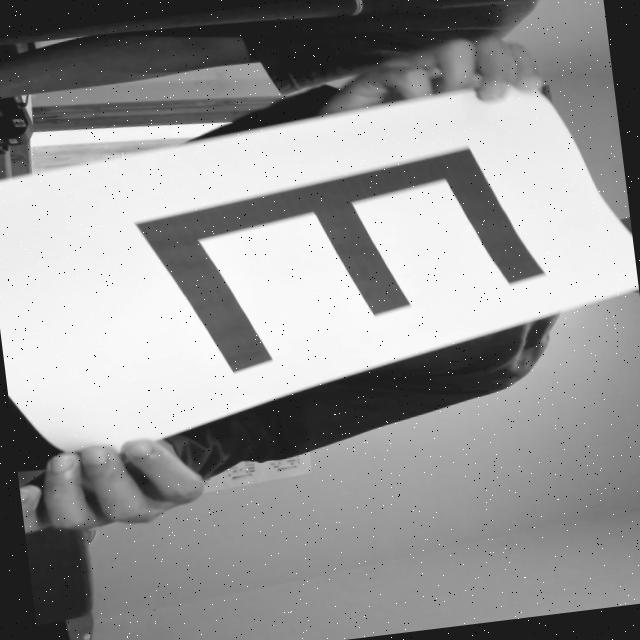e: (92, 124, 572, 416)
